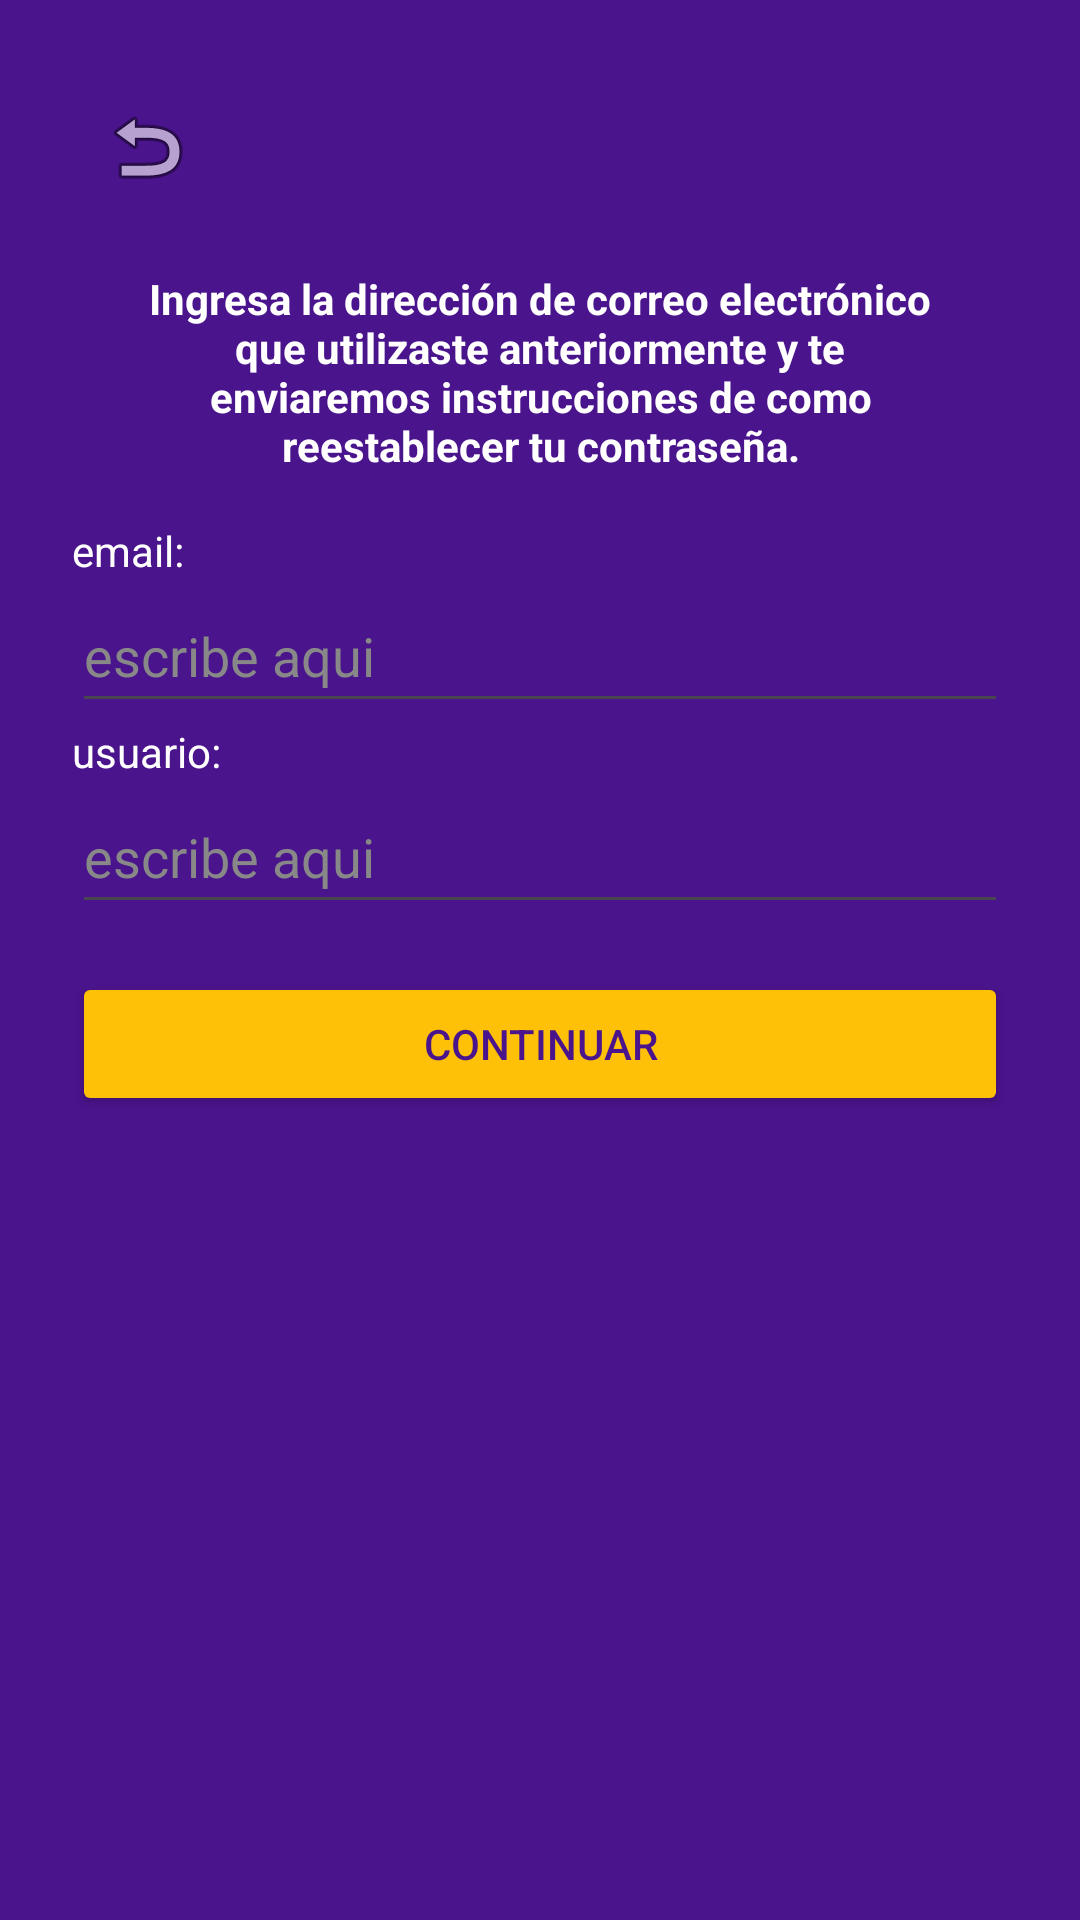

Named icons in this screenshot (1080w x 1920h) and their bounding boxes, rect(x1, y1, x2, y2):
Navega de vuelta a la ventana anterior: rect(114, 117, 183, 179)
